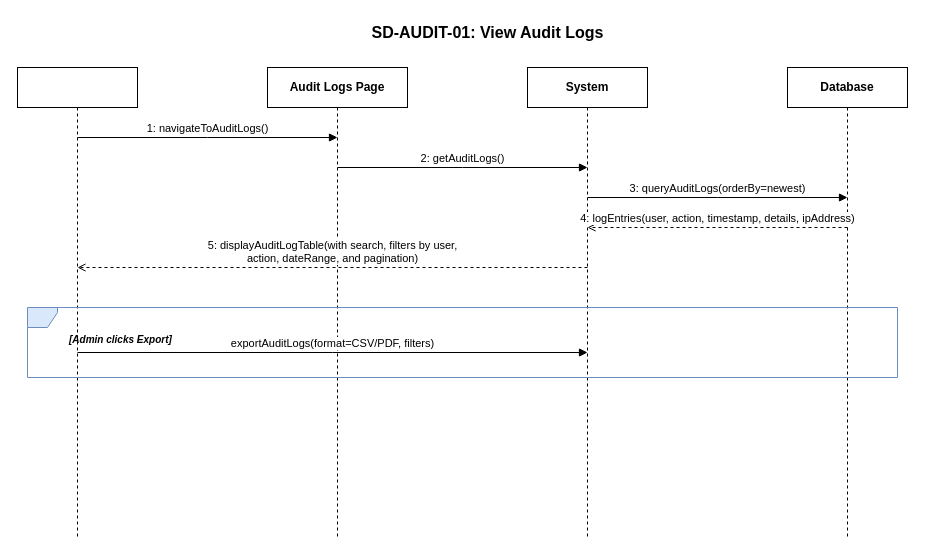
This 925x555 diagram has some shape labels left out. Each missing label, with the box of its shape:
Admin: (16, 66, 138, 538)
opt: (26, 306, 898, 378)
